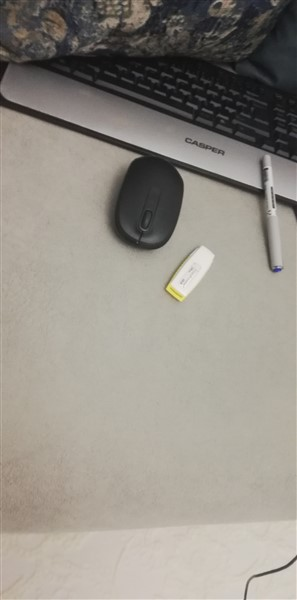flash disk: (166, 244, 218, 304)
klavye: (1, 27, 297, 206)
mouse: (118, 151, 189, 250)
pilot kalem: (249, 156, 285, 279)
